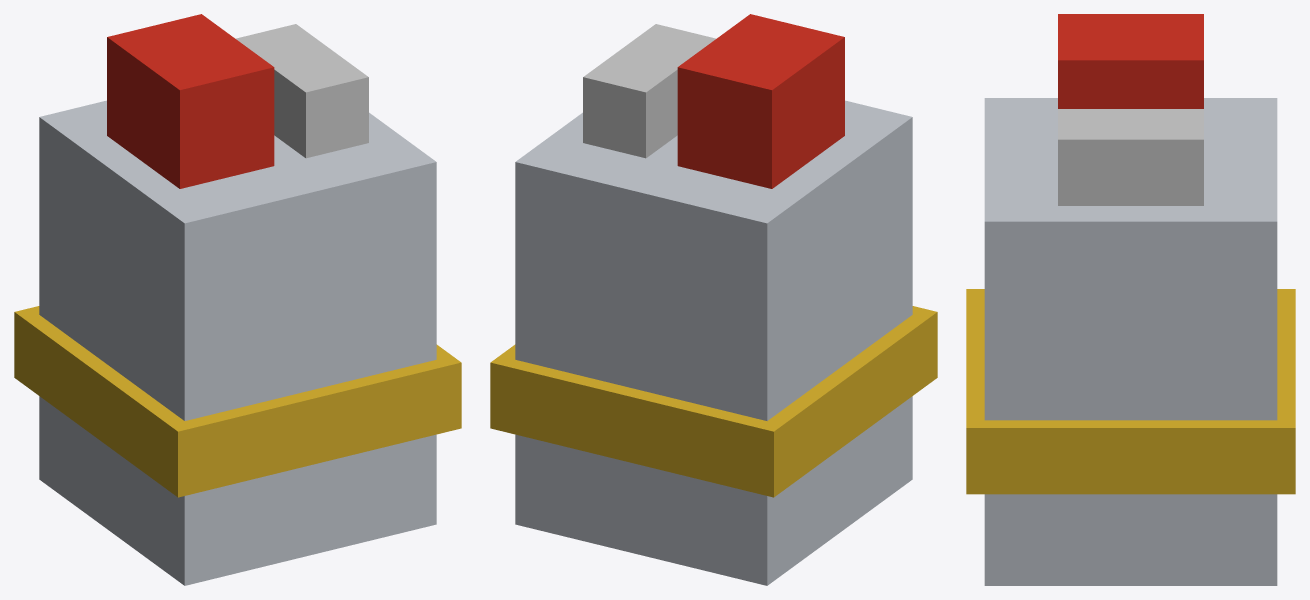
Rendered from energy_cell.obj.
3 views of the same model, side by side, from view 1: azimuth 30°, elevation 25°; view 2: azimuth 150°, elevation 25°; view 3: azimuth 270°, elevation 25° (orthographic).
Visible parts, largest first — view 1: energy_cell; view 2: energy_cell; view 3: energy_cell.
Boxes of the visible parts, bbox=[...] form: energy_cell: bbox=[14, 14, 461, 585]; energy_cell: bbox=[490, 14, 937, 585]; energy_cell: bbox=[966, 14, 1295, 585].
Size of the model in its own units: 0.18 by 0.28 by 0.18.
